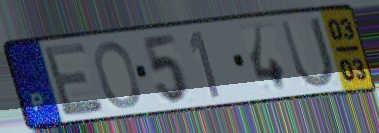1: (187, 28, 222, 101)
4: (252, 21, 291, 93)
5: (137, 31, 192, 106)
E: (40, 39, 108, 120)
O: (92, 39, 143, 111)
U: (277, 14, 337, 91)
